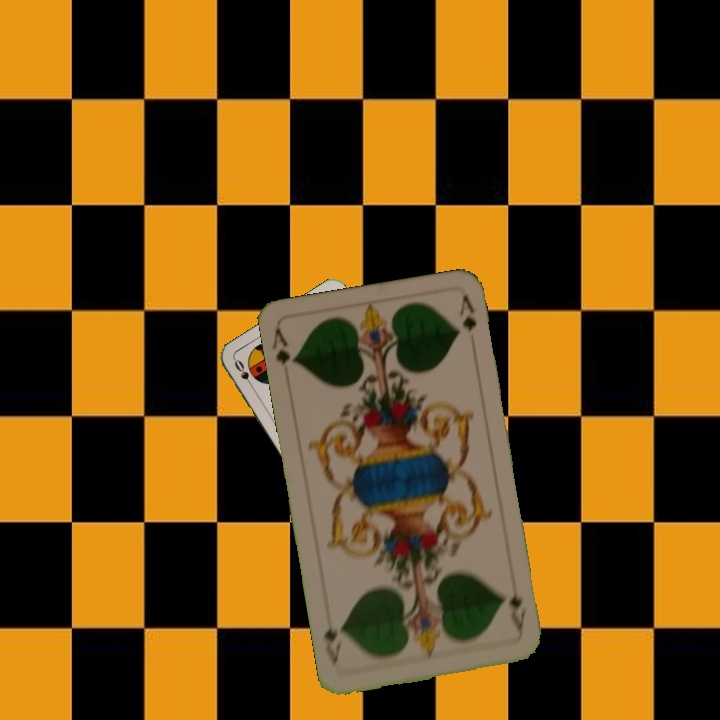GA: (505, 579, 530, 638), (269, 324, 300, 368)
SO: (230, 355, 257, 392)
